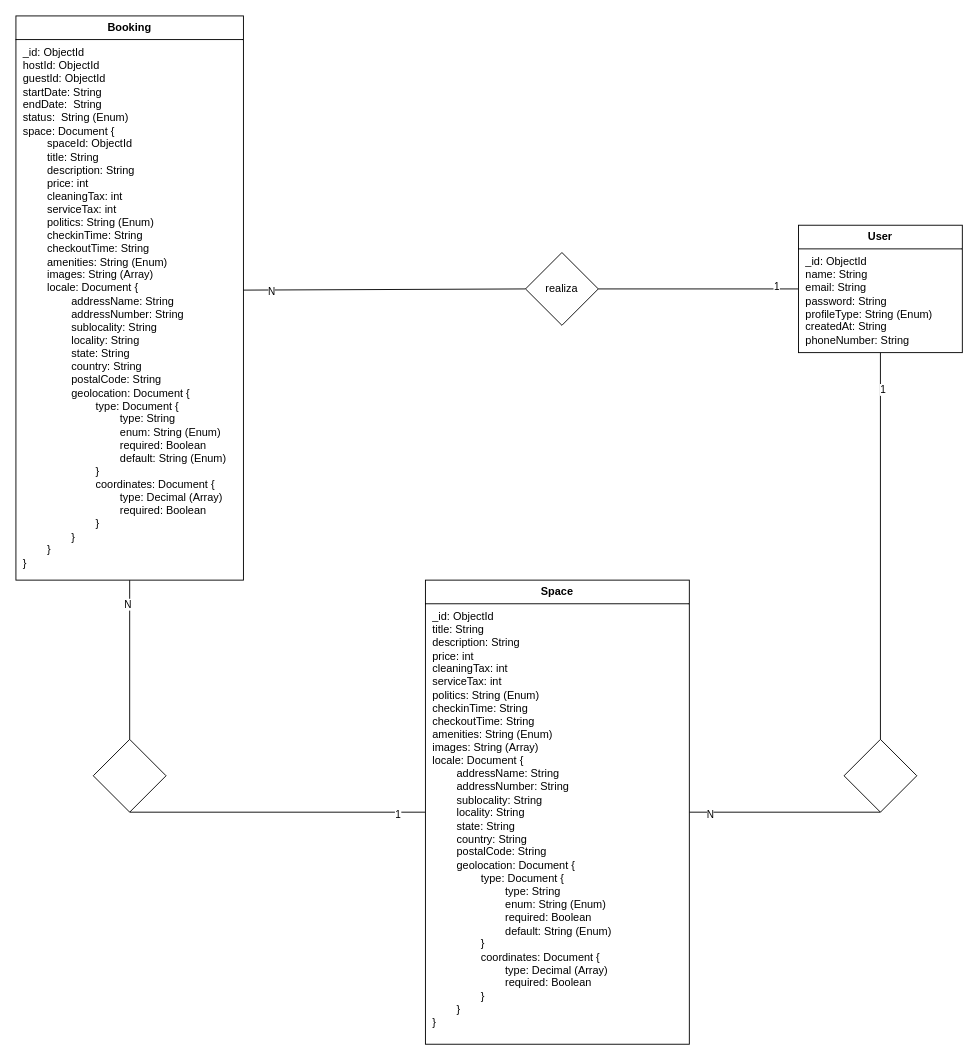
Some shapes in this 978 by 1060 pixel diagram are drawn without their labels. The box of each missing label's shape, as (x1, y1, x2, y2) in pixels:
anuncia: (843, 738, 917, 812)
referente a: (92, 738, 166, 812)
